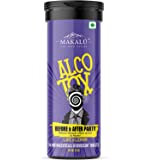Medicine: (43, 1, 102, 160)
